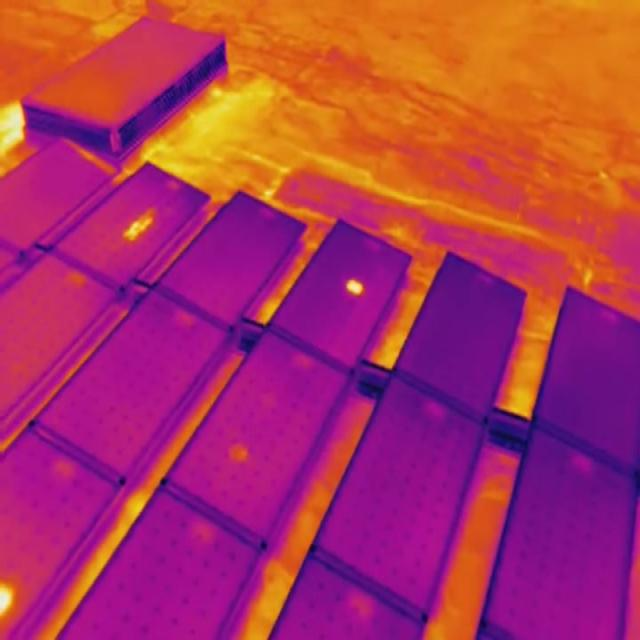Orange-Spots: (125, 206, 152, 242), (0, 579, 12, 621), (231, 442, 248, 467), (346, 276, 365, 298)
